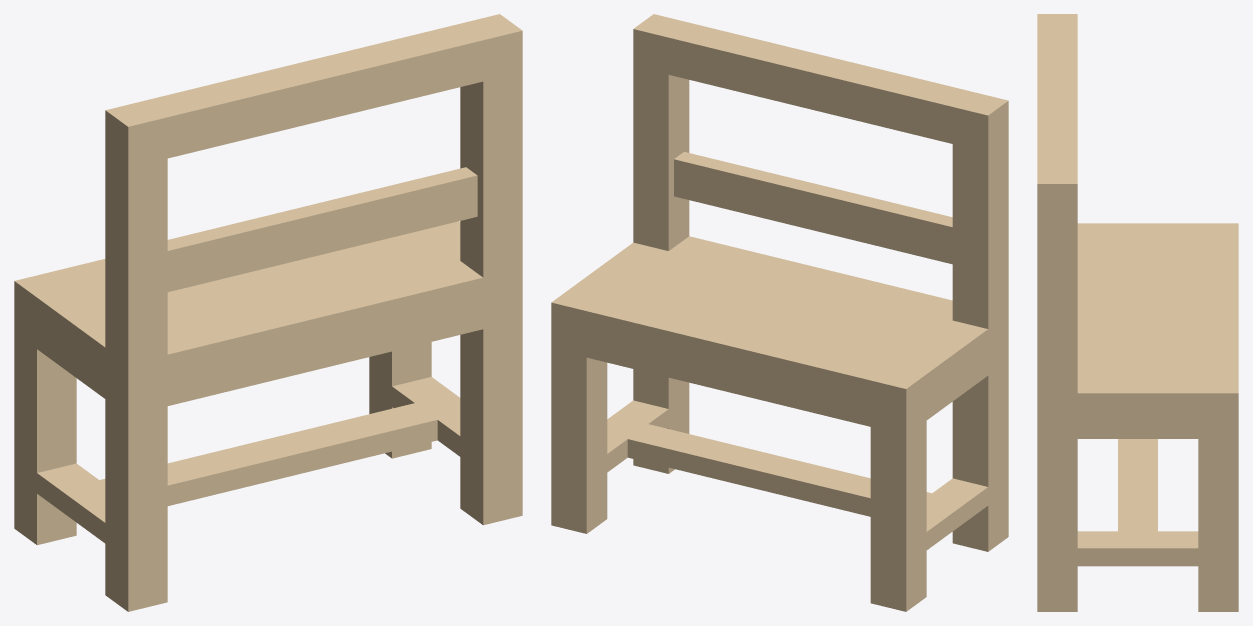
Rendered from bench.glb.
3 views of the same model, side by side, from view 1: azimuth 30°, elevation 25°; view 2: azimuth 150°, elevation 25°; view 3: azimuth 270°, elevation 25° (orthographic). The views are drawn at different scales.
Parts seen in each view (by area): view 1: bench; view 2: bench; view 3: bench.
Boxes of the visible parts, x1,y1,x2,y2 form: bench: [14, 14, 522, 611]; bench: [551, 14, 1008, 611]; bench: [1037, 14, 1238, 611].
Size of the model in its own units: 4 by 4.7 by 2.
